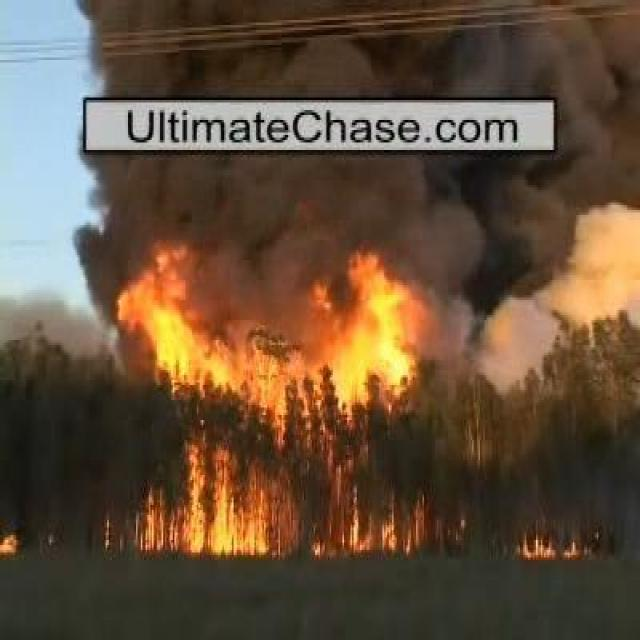Fire: (139, 444, 282, 551), (148, 313, 294, 405), (339, 307, 413, 395)
Smoke: (83, 162, 627, 340)
